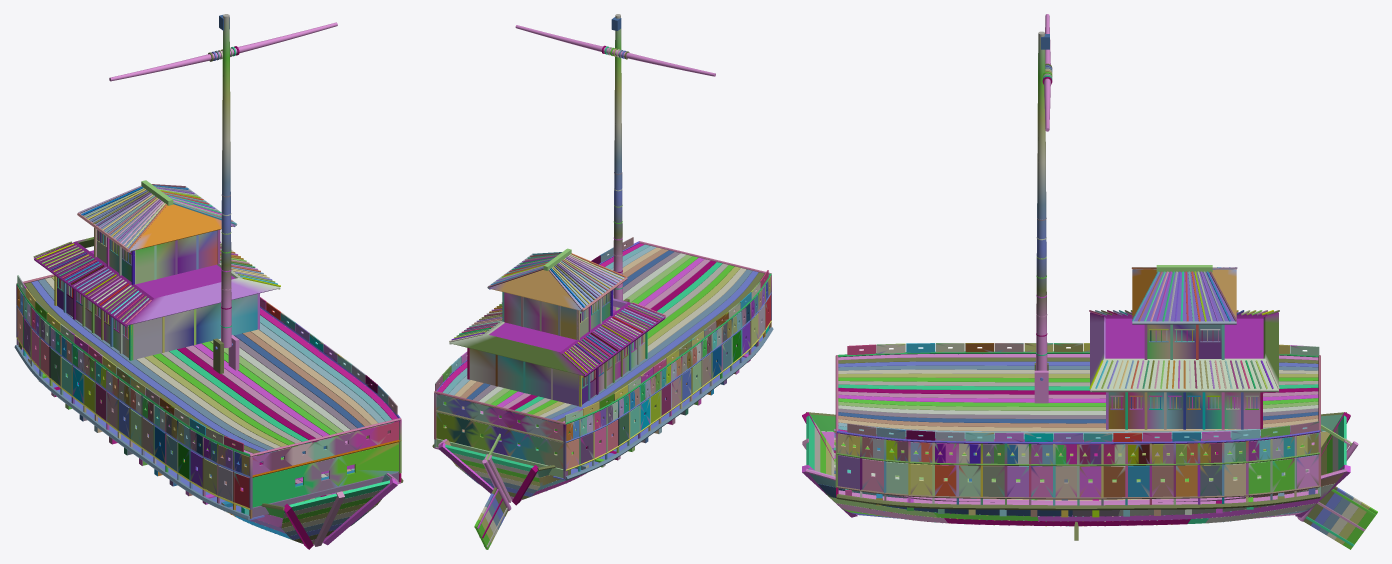
Rendered from atake.glb.
The picture shows the model from 3 angles, left to right: view 1: azimuth 30°, elevation 25°; view 2: azimuth 150°, elevation 25°; view 3: azimuth 270°, elevation 25°; orthographic projection. The views are drawn at different scales.
Parts seen in each view (by area): view 1: hull, mast, yard; view 2: hull, mast, rudder, yard; view 3: hull, mast, rudder.
Part boxes in pixels (x1,y1,x2,y2): hull: (14,180,403,549); mast: (219,14,231,347); yard: (109,22,337,81); hull: (432,237,773,505); mast: (611,14,622,300); rudder: (474,433,511,549); yard: (515,25,715,76); hull: (802,265,1350,526); mast: (1036,31,1049,370); rudder: (1297,424,1377,549).
Size of what is drawn, in the model's own units: 14.01 by 29.51 by 29.83.
